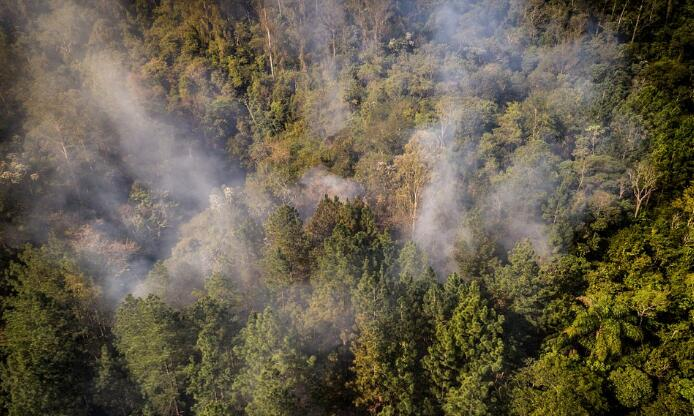yanwu: (3, 0, 356, 343), (240, 1, 596, 276)
